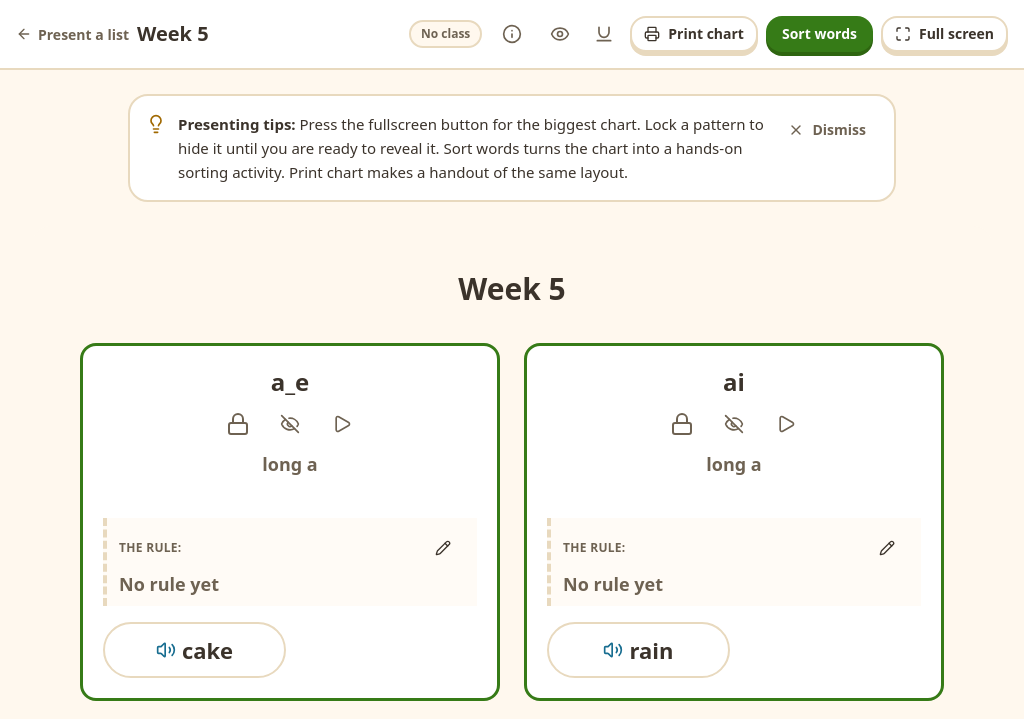
DisplayMode › dismisses the lock save error
Click the button named "Lock pattern a_e" at (238,424), box x1=216 y1=402 x2=260 y2=446
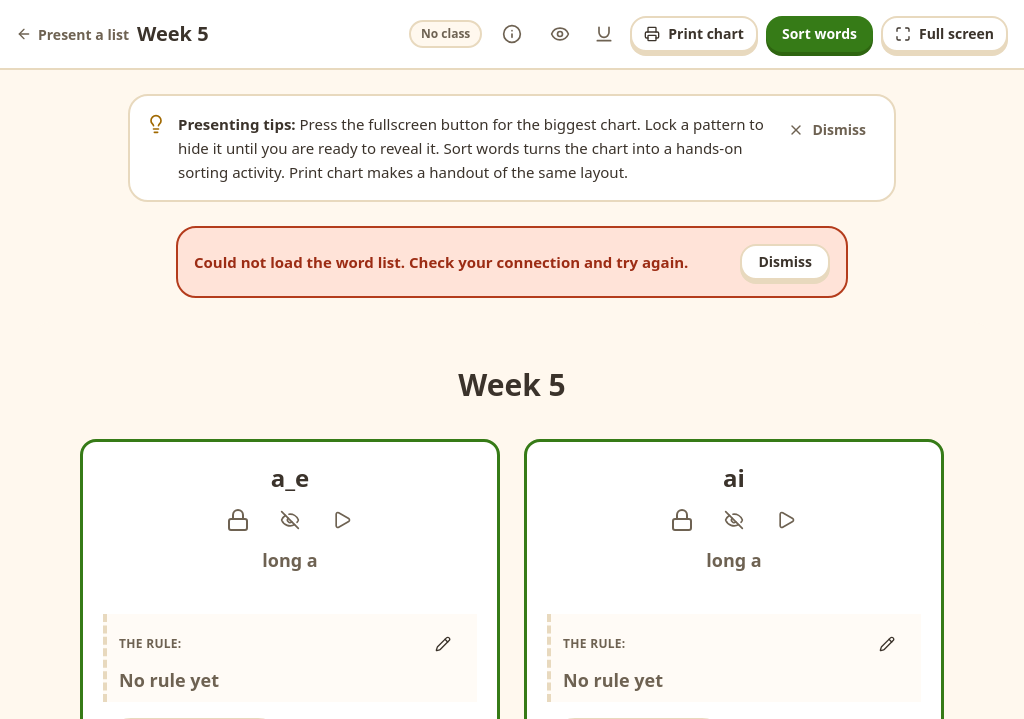
Expected: the message "Could not load the word list. Check your connection and try again. Dismiss" is shown, x1=176 y1=226 x2=848 y2=298
Click the 2nd button "Dismiss" at (785,262), box x1=740 y1=244 x2=830 y2=280
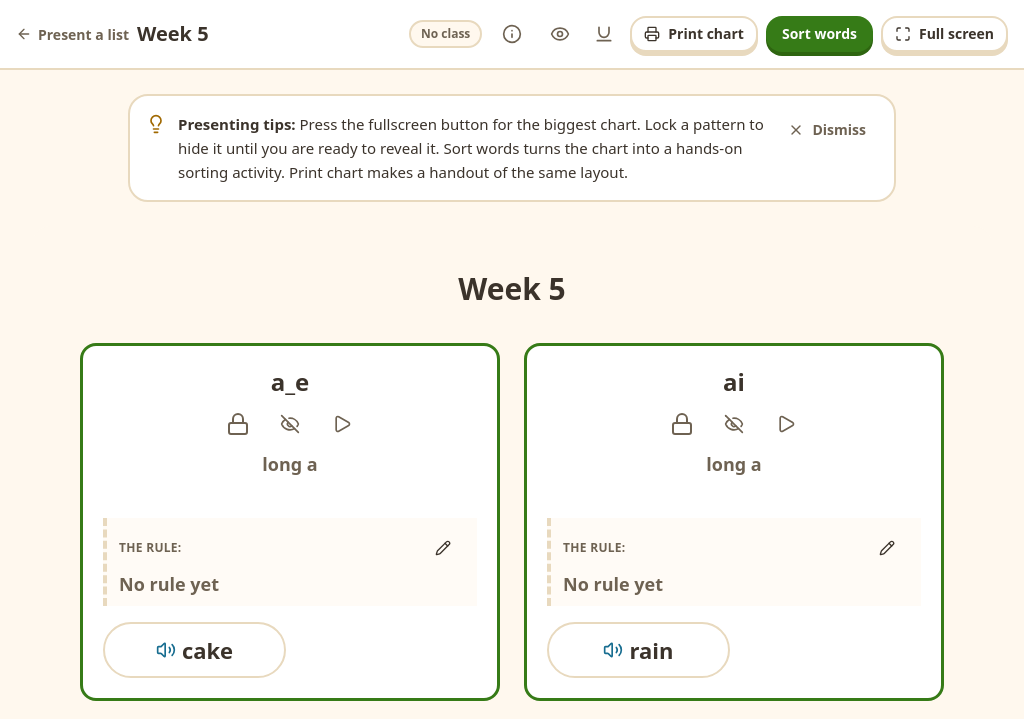
Expected: the message "Could not load the word list. Check your connection and try again. Dismiss" is gone
